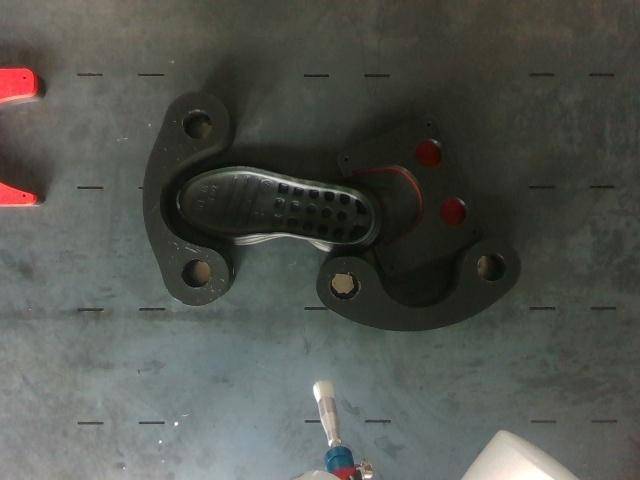shoes: (178, 169, 375, 244)
